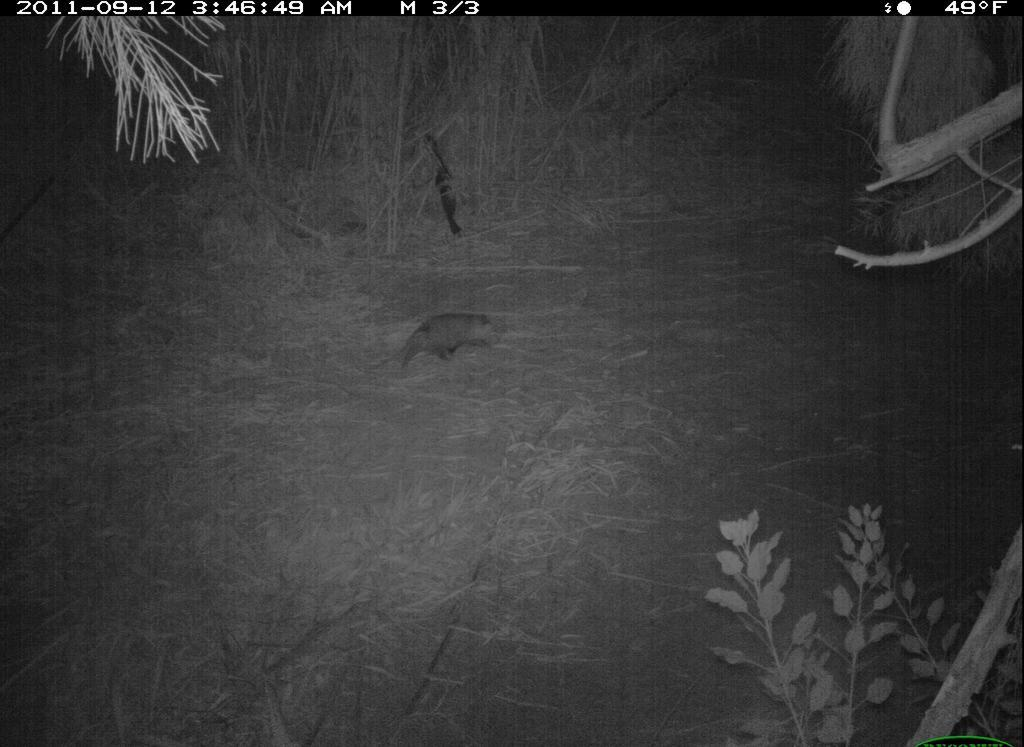opossum: (386, 297, 518, 378)
